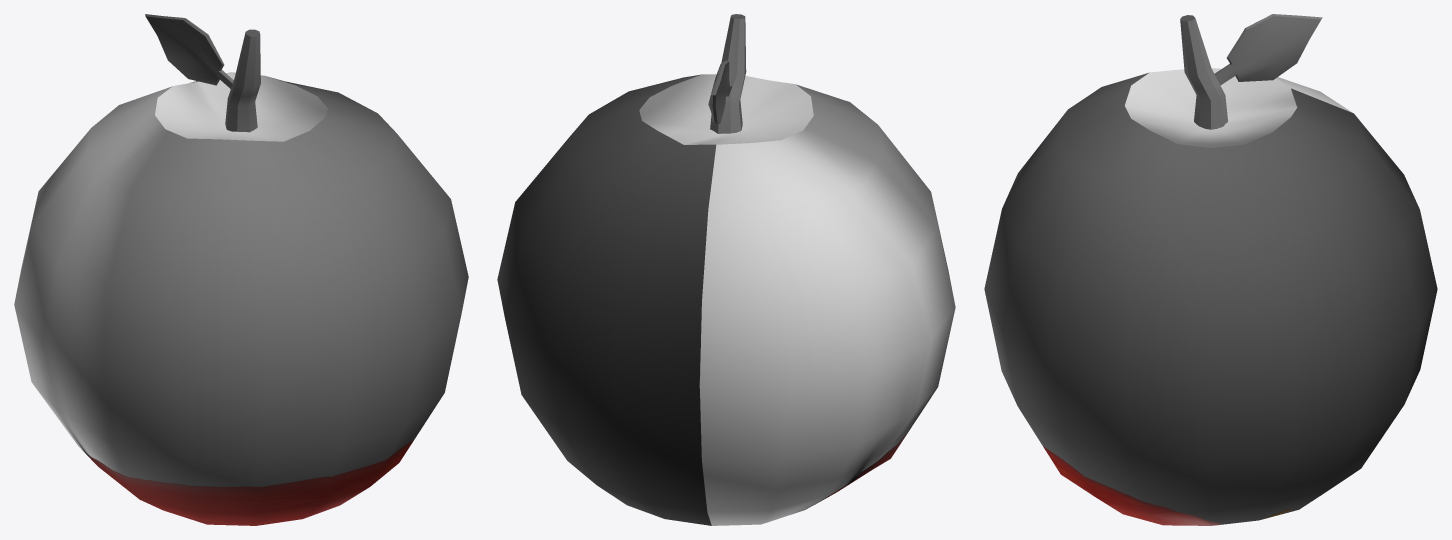
File: Apple.fbx
The picture shows the model from 3 angles, left to right: view 1: azimuth 30°, elevation 25°; view 2: azimuth 150°, elevation 25°; view 3: azimuth 270°, elevation 25°; orthographic projection.
Parts seen in each view (by area): view 1: Apple; view 2: Apple; view 3: Apple.
Part boxes in pixels (bbox=[...]): Apple: bbox=[14, 14, 468, 525]; Apple: bbox=[497, 14, 955, 525]; Apple: bbox=[984, 14, 1437, 525].
Size of the model in its own units: 22.49 by 24.63 by 21.7.
